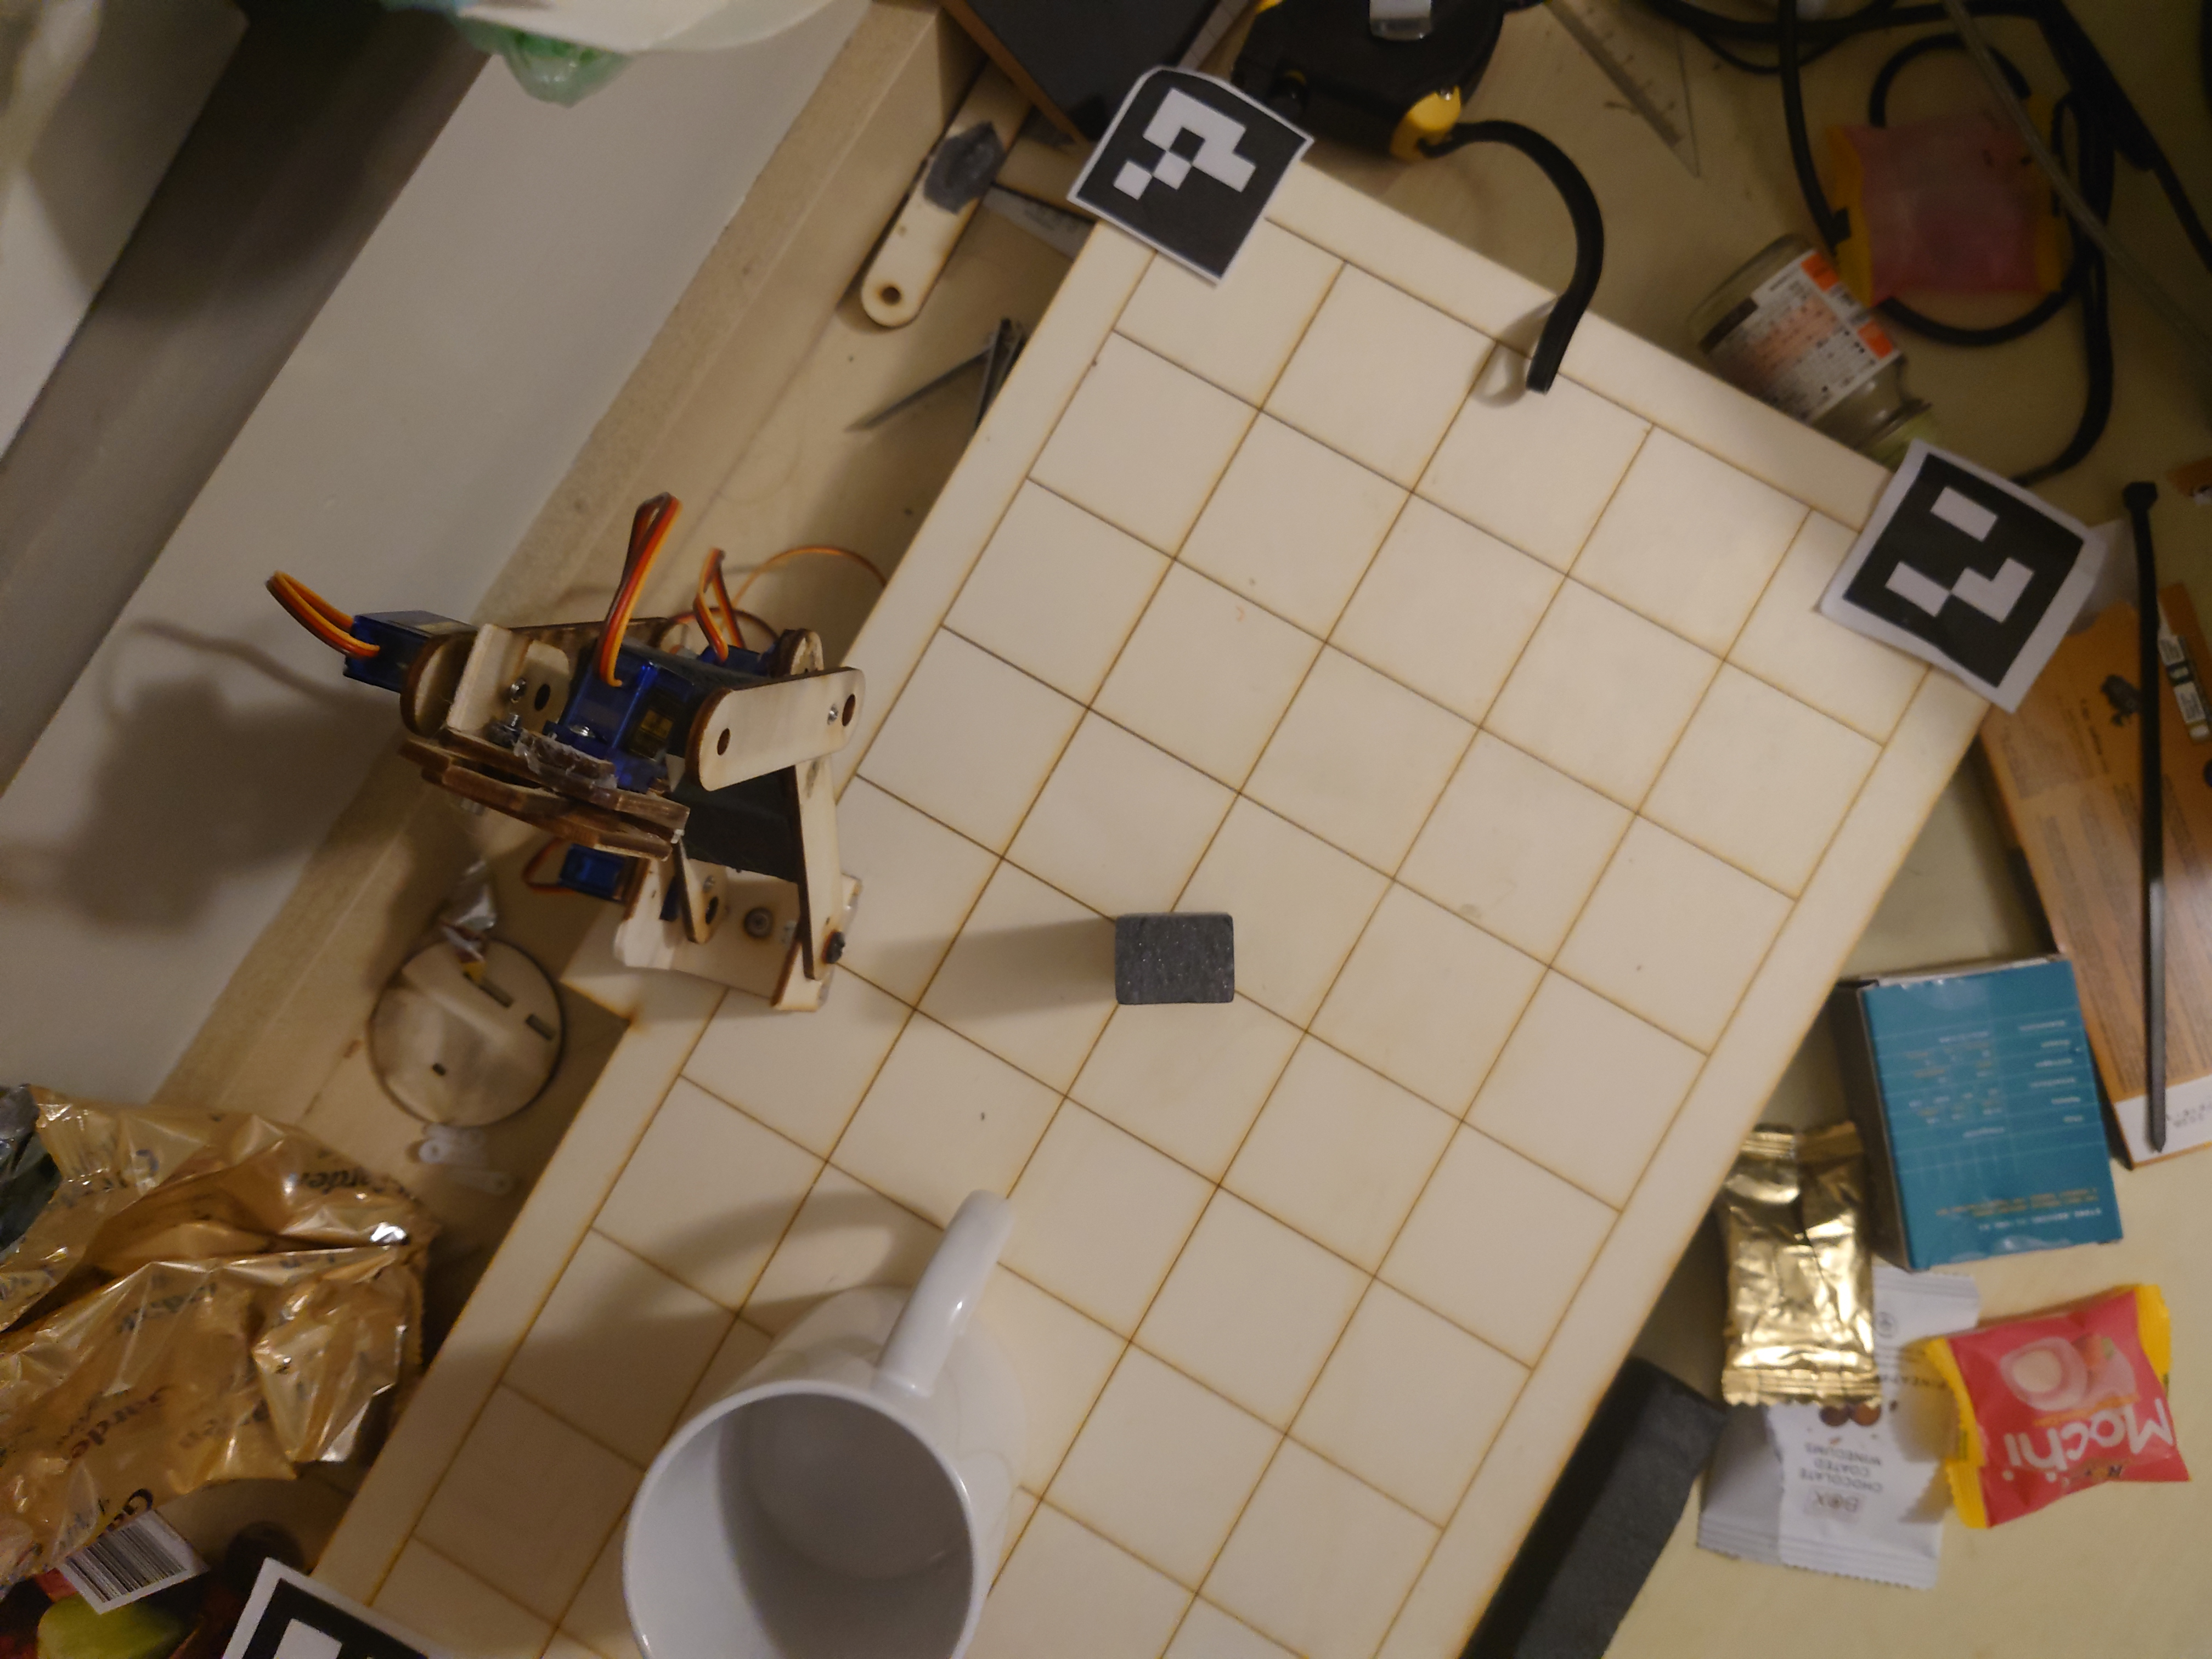target: (613, 1178, 1036, 1659), (1099, 904, 1247, 1018)
